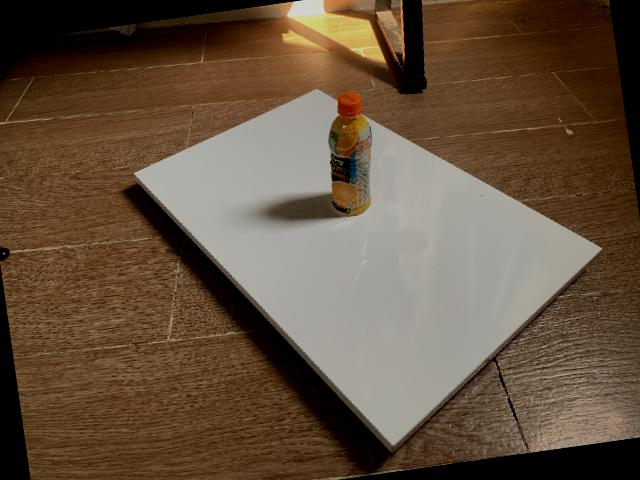teppy_orange_juice: (328, 92, 373, 217)
